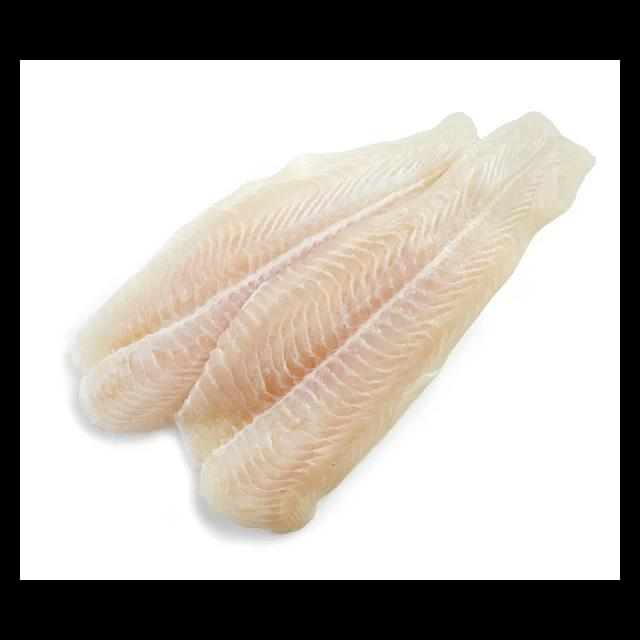fish: (167, 96, 602, 539)
